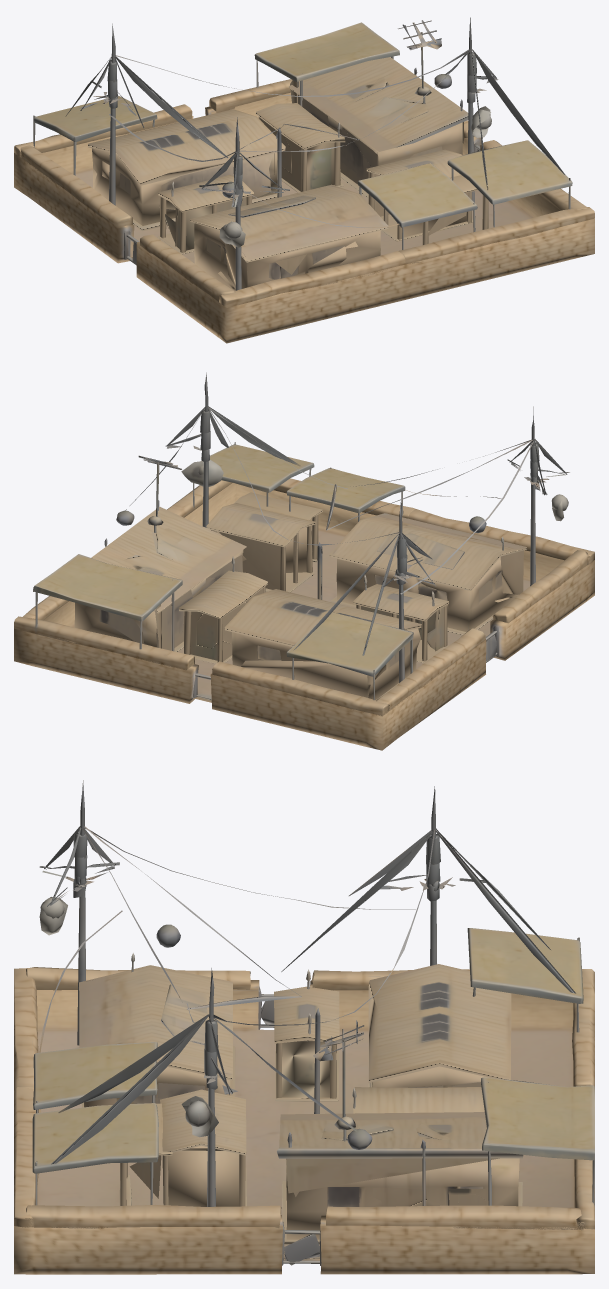
3 views of the same model, one above another, from view 1: azimuth 30°, elevation 25°; view 2: azimuth 150°, elevation 25°; view 3: azimuth 270°, elevation 25° (orthographic). The views are drawn at different scales.
Visible parts, largest first — view 1: geometry_0; view 2: geometry_0; view 3: geometry_0.
Boxes of the visible parts, <box> form: geometry_0: <box>14,17,594,343</box>; geometry_0: <box>14,372,594,750</box>; geometry_0: <box>14,780,594,1274</box>.
Bounding box in the file's own units: 1 × 0.541 × 1.
Materials: 1 (1 with a texture image).
